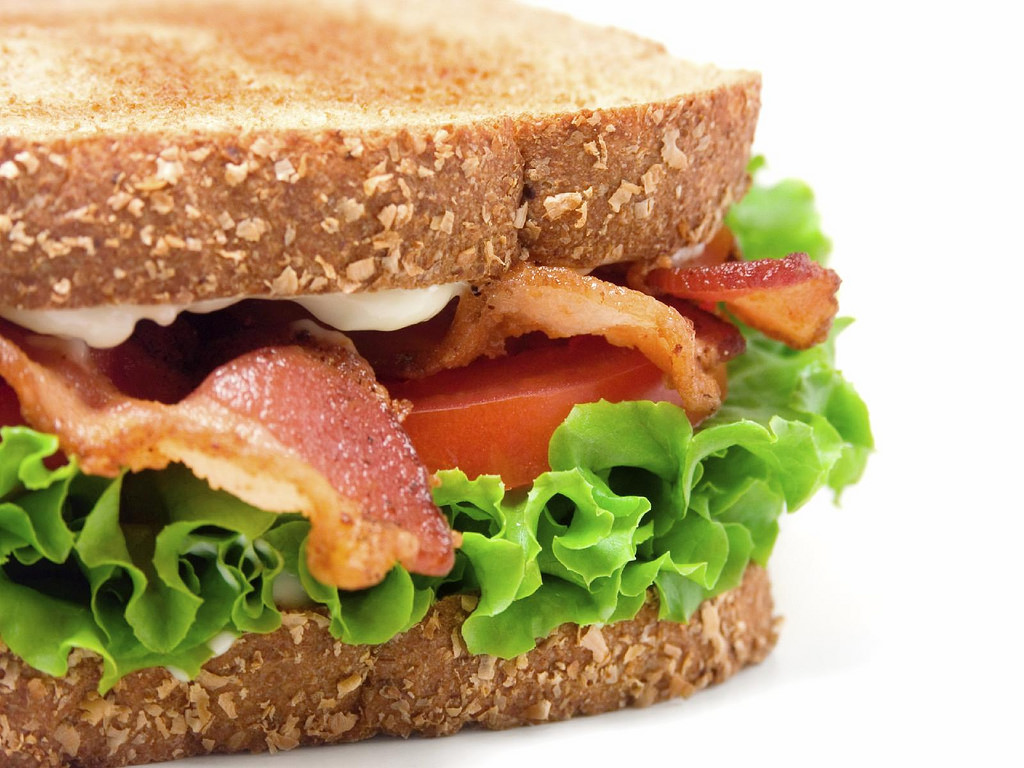chopped lettuce: (9, 448, 783, 602)
slice of bread: (4, 20, 760, 258), (17, 632, 737, 738)
